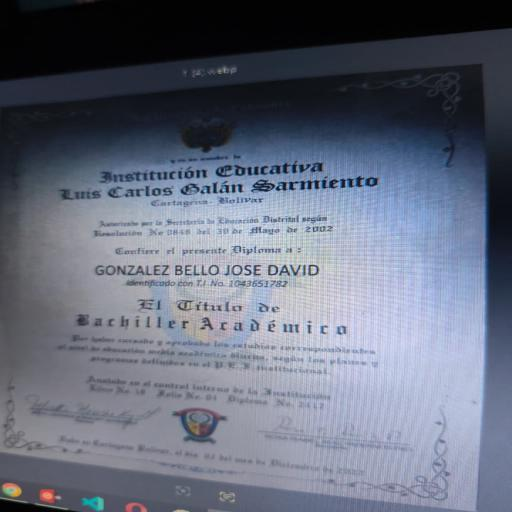bachillerato: (55, 305, 363, 353)
diploma: (0, 64, 479, 512)
escudo: (156, 111, 239, 157)
firma: (235, 404, 420, 460), (19, 388, 161, 437)
institucion: (55, 155, 398, 208)
nombre: (81, 256, 353, 285)
